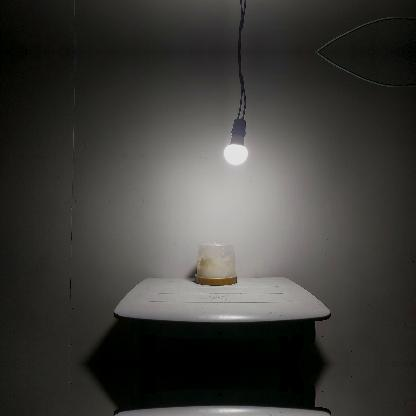Lady-s-Choice: (195, 239, 238, 285)
